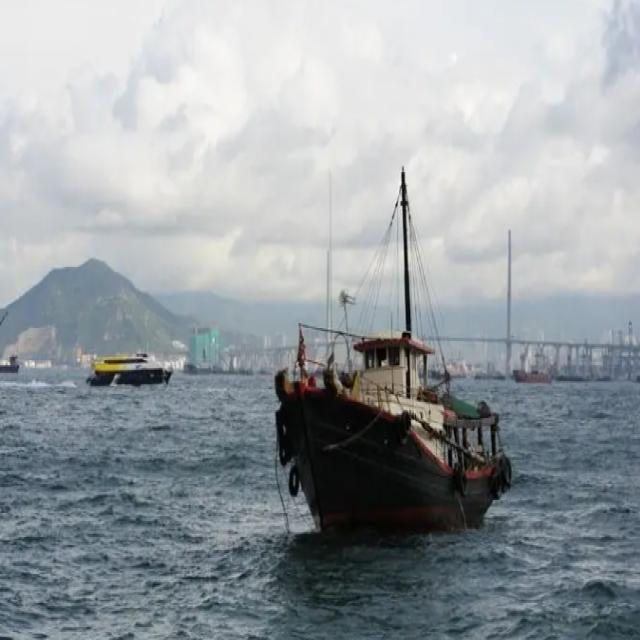fishing boat: (268, 177, 511, 531)
houseboat: (88, 349, 172, 394)
